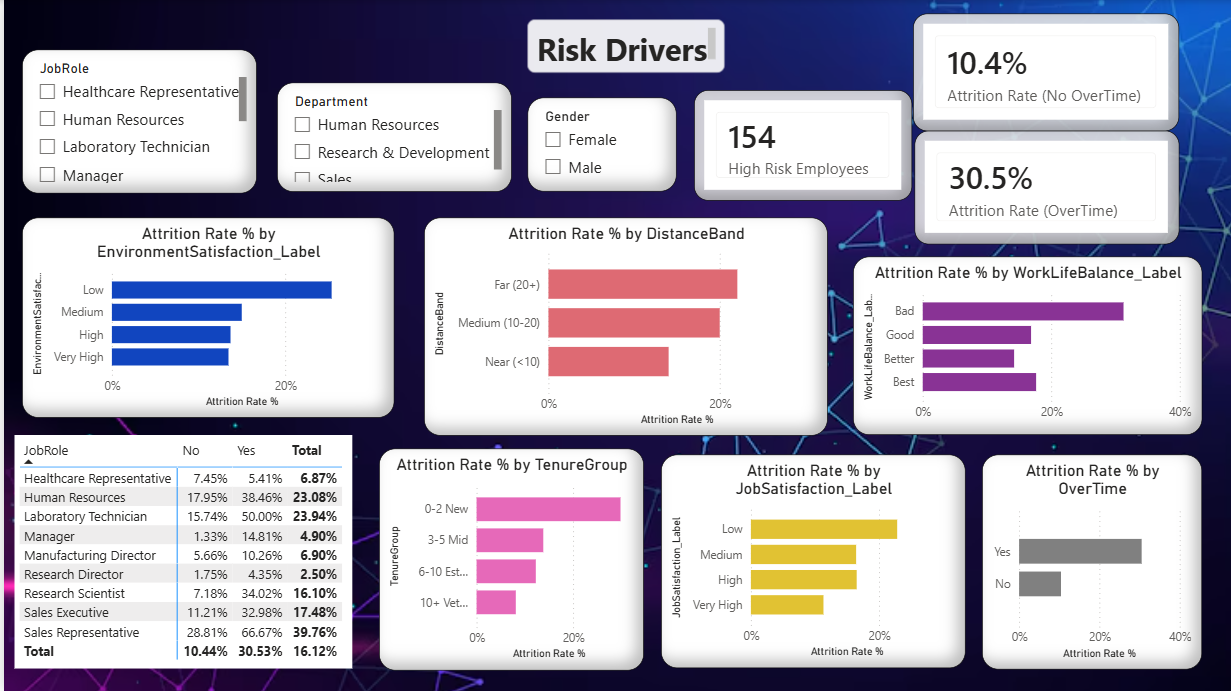

The dashboard page shown, as its layout file describes it:
{"tool":"powerbi","page":{"name":"Risk Drivers","canvas":[1280,720],"ordinal":1},"visuals":[{"type":"cardVisual","fields":{"Data":["Employees.Attrition Rate (OverTime)"]},"box":[948.3,136.2,275.9,119],"z":0},{"type":"cardVisual","fields":{"Data":["Employees.Attrition Rate (No OverTime)"]},"box":[946.6,13.8,277.6,122.4],"z":1000},{"type":"cardVisual","fields":{"Data":["Employees.High Risk Employees"]},"box":[719,93.1,227.6,115.5],"z":2000},{"type":"clusteredBarChart","fields":{"Category":["Employees.OverTime"],"Y":["Employees.Attrition Rate %"]},"box":[1019,474.1,229.3,224.1],"z":3000},{"type":"clusteredBarChart","fields":{"Y":["Employees.Attrition Rate %"],"Category":["Employees.WorkLifeBalance_Label"]},"box":[884.5,267.2,363.8,186.2],"z":4000},{"type":"clusteredBarChart","fields":{"Y":["Employees.Attrition Rate %"],"Category":["Employees.JobSatisfaction_Label"]},"box":[684.5,474.1,317.2,222.4],"z":5000},{"type":"clusteredBarChart","fields":{"Y":["Employees.Attrition Rate %"],"Category":["Employees.EnvironmentSatisfaction_Label"]},"box":[19,225.9,387.9,208.6],"z":6000},{"type":"clusteredBarChart","fields":{"Y":["Employees.Attrition Rate %"],"Category":["Employees.DistanceBand"]},"box":[437.9,225.9,420.7,227.6],"z":7000},{"type":"clusteredBarChart","fields":{"Y":["Employees.Attrition Rate %"],"Category":["Employees.TenureGroup"]},"box":[391.4,467.2,275.9,231],"z":8000},{"type":"pivotTable","fields":{"Rows":["Employees.JobRole"],"Columns":["Employees.OverTime"],"Values":["Employees.Attrition Rate %"]},"box":[10.3,453.4,351.7,243.1],"z":9000},{"type":"slicer","fields":{"Values":["Employees.Department"]},"box":[284.5,86.2,244.8,113.8],"z":10000},{"type":"slicer","fields":{"Values":["Employees.Gender"]},"box":[544.8,101.7,155.2,98.3],"z":11000},{"type":"slicer","fields":{"Values":["Employees.JobRole"]},"box":[19,51.7,244.8,150],"z":12000},{"type":"textbox","box":[544.8,20.7,205.2,55.2],"z":13000}]}

Visuals, with their boxes in screenshot pixels (x1, y1, x2, y2), scaled from the page's 1280x720 canvas onto the 1231x691 screenshot:
cardVisual - Employees.Attrition Rate (OverTime): Rect(912, 131, 1177, 245)
cardVisual - Employees.Attrition Rate (No OverTime): Rect(910, 13, 1177, 131)
cardVisual - Employees.High Risk Employees: Rect(691, 89, 910, 200)
clusteredBarChart - Employees.OverTime x Employees.Attrition Rate %: Rect(980, 455, 1201, 670)
clusteredBarChart - Employees.Attrition Rate % x Employees.WorkLifeBalance_Label: Rect(851, 256, 1201, 435)
clusteredBarChart - Employees.Attrition Rate % x Employees.JobSatisfaction_Label: Rect(658, 455, 963, 668)
clusteredBarChart - Employees.Attrition Rate % x Employees.EnvironmentSatisfaction_Label: Rect(18, 217, 391, 417)
clusteredBarChart - Employees.Attrition Rate % x Employees.DistanceBand: Rect(421, 217, 826, 435)
clusteredBarChart - Employees.Attrition Rate % x Employees.TenureGroup: Rect(376, 448, 642, 670)
pivotTable - Employees.JobRole x Employees.OverTime: Rect(10, 435, 348, 668)
slicer - Employees.Department: Rect(274, 83, 509, 192)
slicer - Employees.Gender: Rect(524, 98, 673, 192)
slicer - Employees.JobRole: Rect(18, 50, 254, 194)
textbox: Rect(524, 20, 721, 73)
